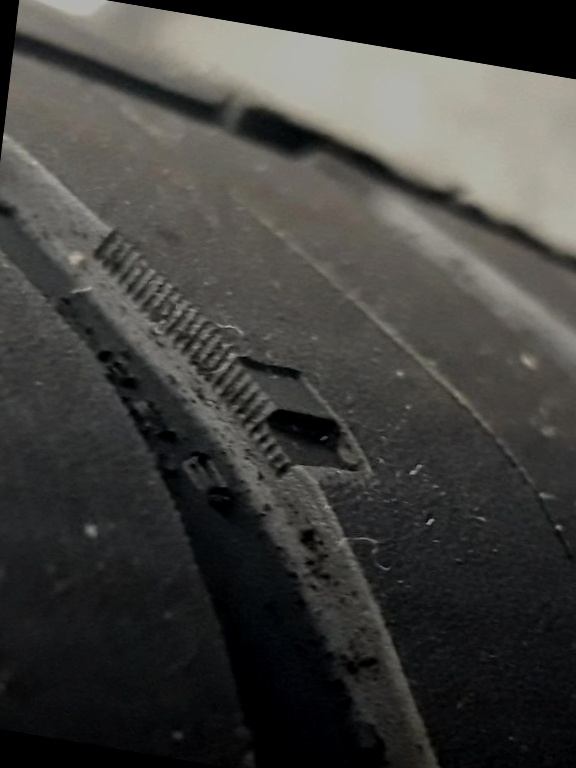temoin:25: (179, 327, 410, 517)
